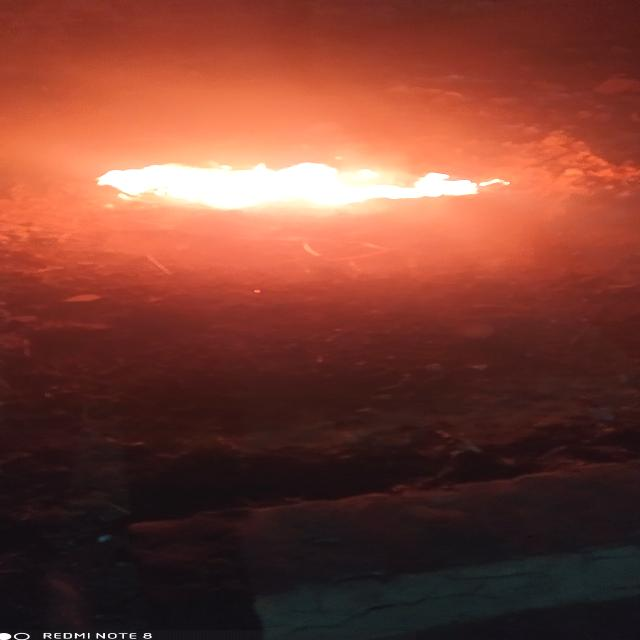firerotation: (88, 157, 512, 218)
